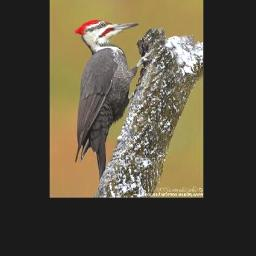Woodpecker: (73, 19, 154, 184)
